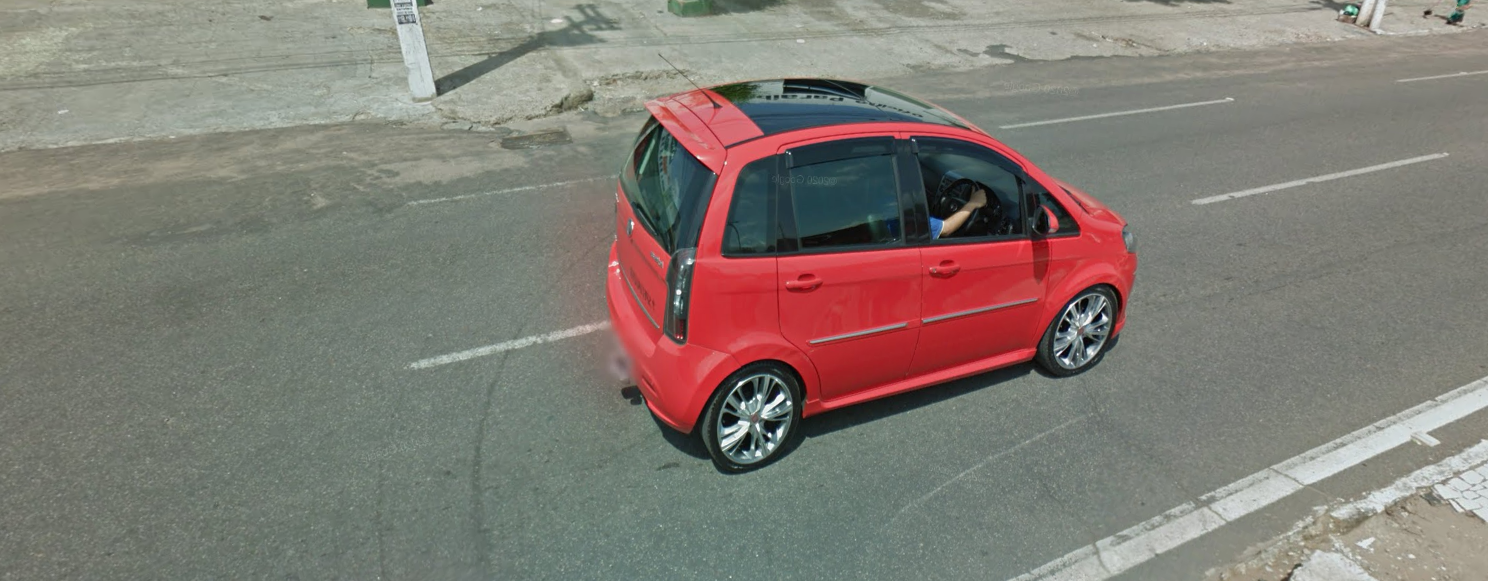car: (599, 51, 1149, 477)
